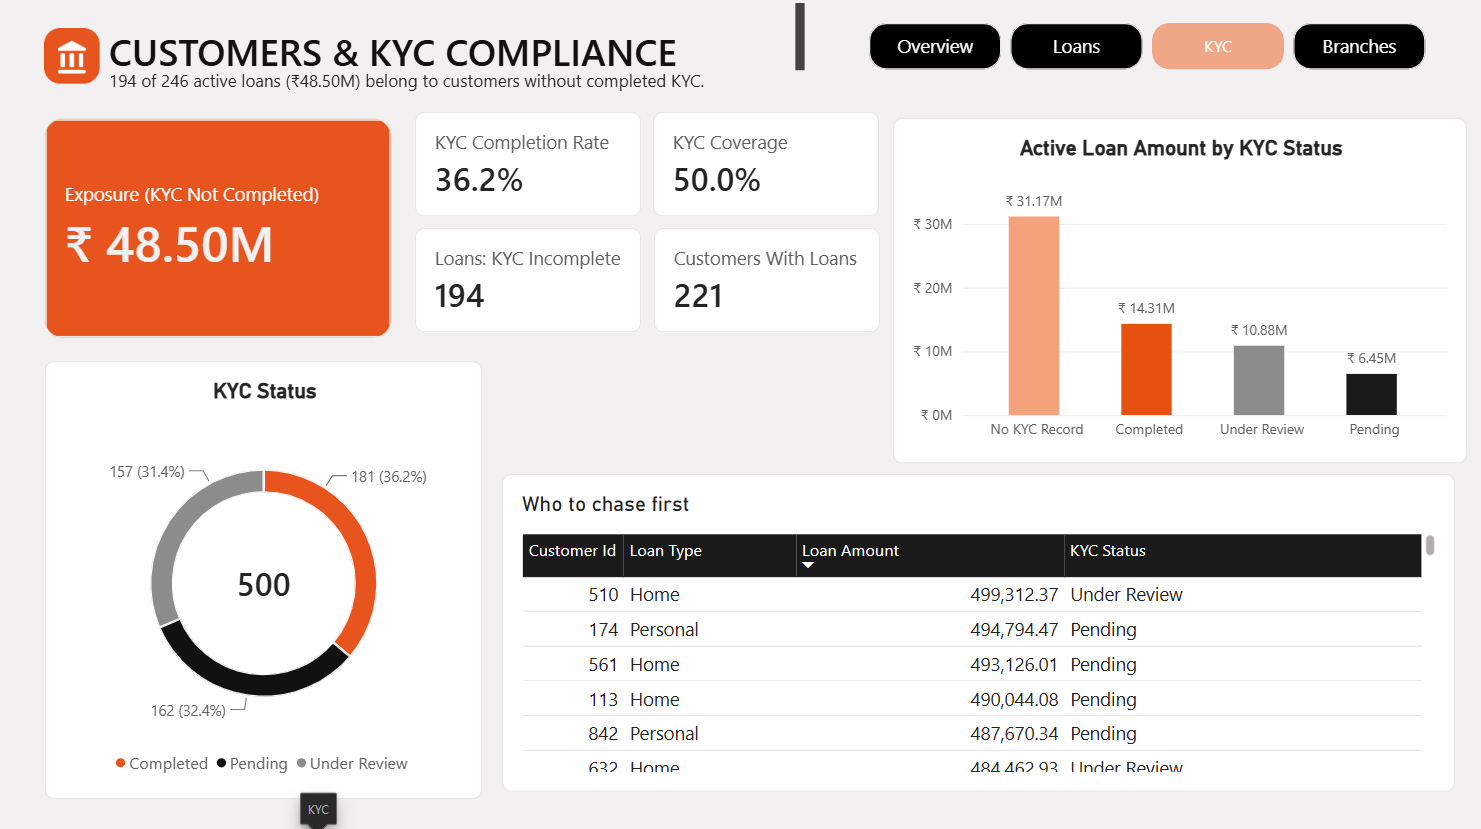

The page's visual inventory and layout, read from the dashboard file:
{"tool":"powerbi","page":{"name":"KYC","canvas":[1280,720],"ordinal":2},"visuals":[{"type":"textbox","box":[96,6,600,60],"z":0},{"type":"textbox","box":[96,61.7,600,60],"z":1000},{"type":"cardVisual","fields":{"Data":["Risk Measures.Active Loan Exposure KYC Incomplete"]},"box":[40,105.4,300,190],"z":2000},{"type":"cardVisual","fields":{"Data":["Measures (2).kyc complition rate"]},"box":[360,100,195,90],"z":3000},{"type":"cardVisual","fields":{"Data":["Measures (2).Customer with active loans"]},"box":[565.5,200.5,195.3,90],"z":4000},{"type":"cardVisual","fields":{"Data":["Measures (2).KYC Coverage"]},"box":[565,100.2,195,90],"z":5000},{"type":"cardVisual","fields":{"Data":["Risk Measures.Active Loans (KYC Incomplete)"]},"box":[360,200,195,90],"z":6000},{"type":"clusteredColumnChart","title":"Active Loan Amount by KYC Status","fields":{"Category":["Loans.KYC Group"],"Y":["Measures (2).Active Loan Amount"]},"box":[772.1,105.4,495.4,298.2],"z":7000},{"type":"donutChart","title":"KYC Status","fields":{"Category":["KYC.kyc_status"],"Y":["Measures (2).KYC Records"]},"box":[40.9,315.1,377.4,378.4],"z":8000},{"type":"tableEx","title":"Who to chase first","fields":{"Values":["Loans.customer_id","Loans.loan_type","Loans.loan_amount","KYC.kyc_status"]},"box":[434.8,412.4,821.9,274.3],"z":9000},{"type":"pageNavigator","box":[750.9,23.3,480,40],"z":10000},{"type":"image","box":[40,28,48,48],"z":10001}]}

Visuals, with their boxes in screenshot pixels (x1, y1, x2, y2), scaled from the page's 1280x720 canvas onto the 1481x829 screenshot:
textbox: <region>111, 7, 805, 76</region>
textbox: <region>111, 71, 805, 140</region>
cardVisual - Risk Measures.Active Loan Exposure KYC Incomplete: <region>46, 121, 393, 340</region>
cardVisual - Measures (2).kyc complition rate: <region>417, 115, 642, 219</region>
cardVisual - Measures (2).Customer with active loans: <region>654, 231, 880, 334</region>
cardVisual - Measures (2).KYC Coverage: <region>654, 115, 879, 219</region>
cardVisual - Risk Measures.Active Loans (KYC Incomplete): <region>417, 230, 642, 334</region>
"Active Loan Amount by KYC Status" clusteredColumnChart: <region>893, 121, 1467, 465</region>
"KYC Status" donutChart: <region>47, 363, 484, 798</region>
"Who to chase first" tableEx: <region>503, 475, 1454, 791</region>
pageNavigator: <region>869, 27, 1424, 73</region>
image: <region>46, 32, 102, 88</region>
